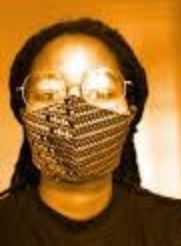with_facemask: (16, 103, 140, 186)
